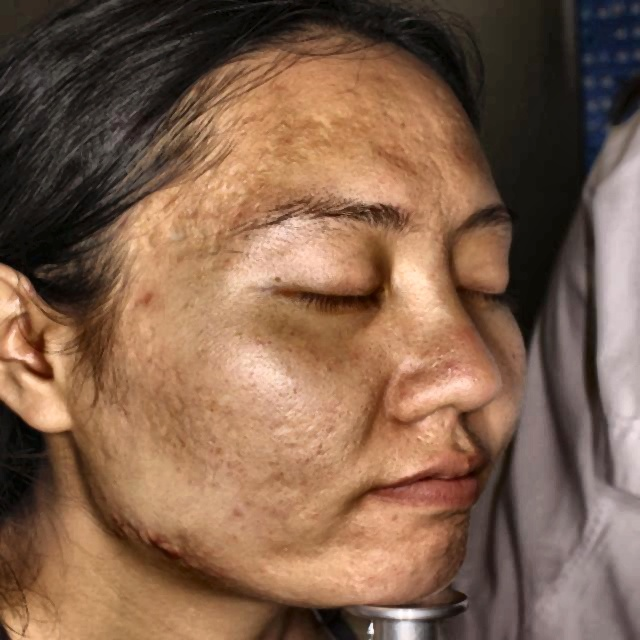pustule: (107, 504, 136, 532), (134, 283, 161, 313), (163, 535, 189, 564), (136, 526, 158, 550), (229, 504, 250, 520), (115, 215, 134, 232)
